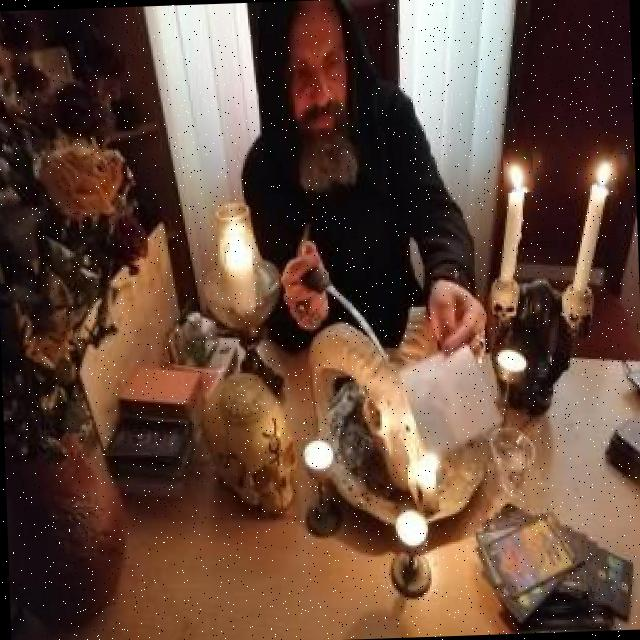fire: (502, 148, 534, 192), (595, 147, 618, 195)
